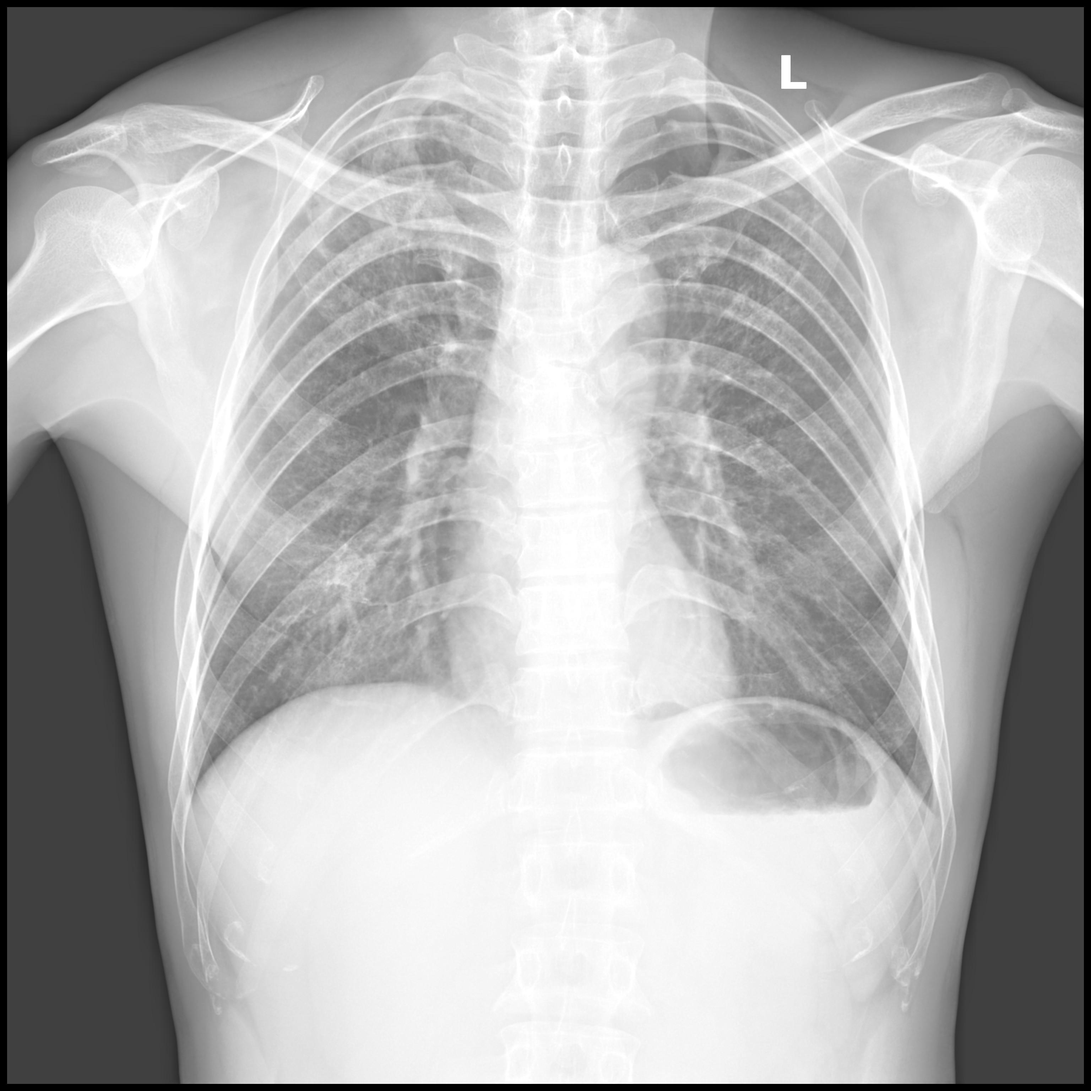Pleural thickening: (921, 790, 943, 826)
Pulmonary fibrosis: (302, 99, 472, 336), (721, 178, 822, 347)
